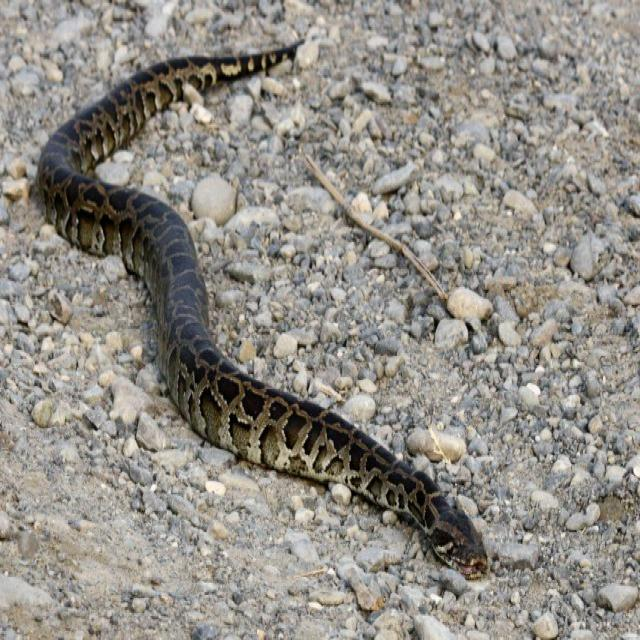Snake: (33, 32, 490, 586)
